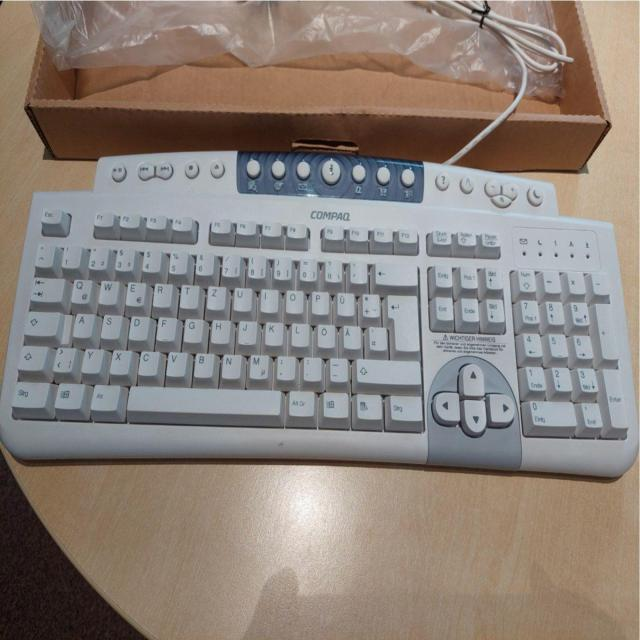0: (298, 256, 317, 281)
1: (60, 243, 81, 267)
2: (87, 244, 108, 269)
3: (113, 244, 134, 270)
4: (140, 245, 160, 271)
5: (167, 249, 187, 274)
6: (194, 250, 214, 275)
7: (219, 251, 241, 277)
8: (246, 253, 266, 278)
9: (271, 255, 291, 280)
a: (72, 311, 93, 337)
accent: (348, 258, 367, 283)
ae: (341, 323, 361, 348)
alt-left: (89, 382, 120, 411)
altgr-right: (286, 387, 315, 416)
b: (192, 351, 214, 377)
c: (137, 348, 158, 375)
caret: (33, 240, 53, 266)
comma: (274, 354, 295, 380)
d: (128, 313, 149, 340)
del: (373, 260, 418, 285)
e: (124, 279, 146, 305)
enter: (386, 293, 419, 351)
f: (155, 315, 176, 340)
g: (182, 316, 204, 341)
h: (210, 318, 231, 343)
hash: (366, 325, 387, 350)
i: (259, 287, 278, 311)
j: (236, 318, 257, 343)
k: (263, 320, 283, 345)
keyboard: (1, 149, 639, 481)
l: (289, 321, 309, 346)
less: (51, 345, 76, 372)
m: (247, 352, 269, 379)
minus: (327, 356, 348, 381)
n: (220, 352, 242, 378)
o: (284, 287, 304, 312)
oe: (315, 322, 335, 347)
p: (310, 289, 329, 314)
plus: (360, 291, 380, 317)
point: (301, 355, 321, 381)
q: (69, 277, 91, 302)
r: (152, 281, 173, 306)
s: (100, 312, 120, 338)
shift-left: (16, 344, 47, 370)
shift-lock: (23, 309, 59, 335)
shift-right: (354, 357, 420, 383)
space: (125, 385, 283, 416)
ss: (323, 256, 342, 282)
strg-left: (9, 379, 49, 408)
strg-right: (386, 393, 424, 422)
t: (178, 282, 199, 308)
tab: (29, 275, 64, 301)
u: (232, 285, 252, 310)
ue: (335, 290, 354, 315)
v: (165, 349, 187, 376)
w: (98, 278, 119, 303)
x: (109, 347, 131, 374)
y: (80, 347, 103, 372)
z: (206, 284, 226, 309)
